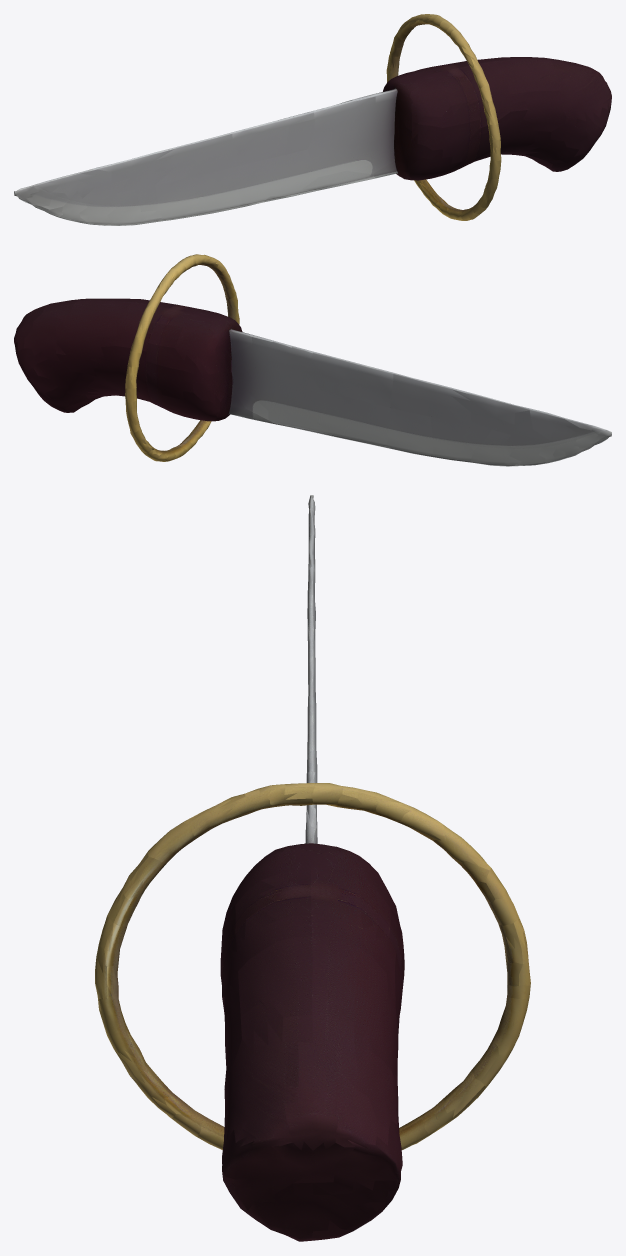
Rendered from punal_pablo.glb.
The picture shows the model from 3 angles, top to bottom: view 1: azimuth 30°, elevation 25°; view 2: azimuth 150°, elevation 25°; view 3: azimuth 270°, elevation 25°; orthographic projection. The views are drawn at different scales.
Size of the model in its own units: 1 by 0.3145 by 0.3223.
1 material, 1 textured.
